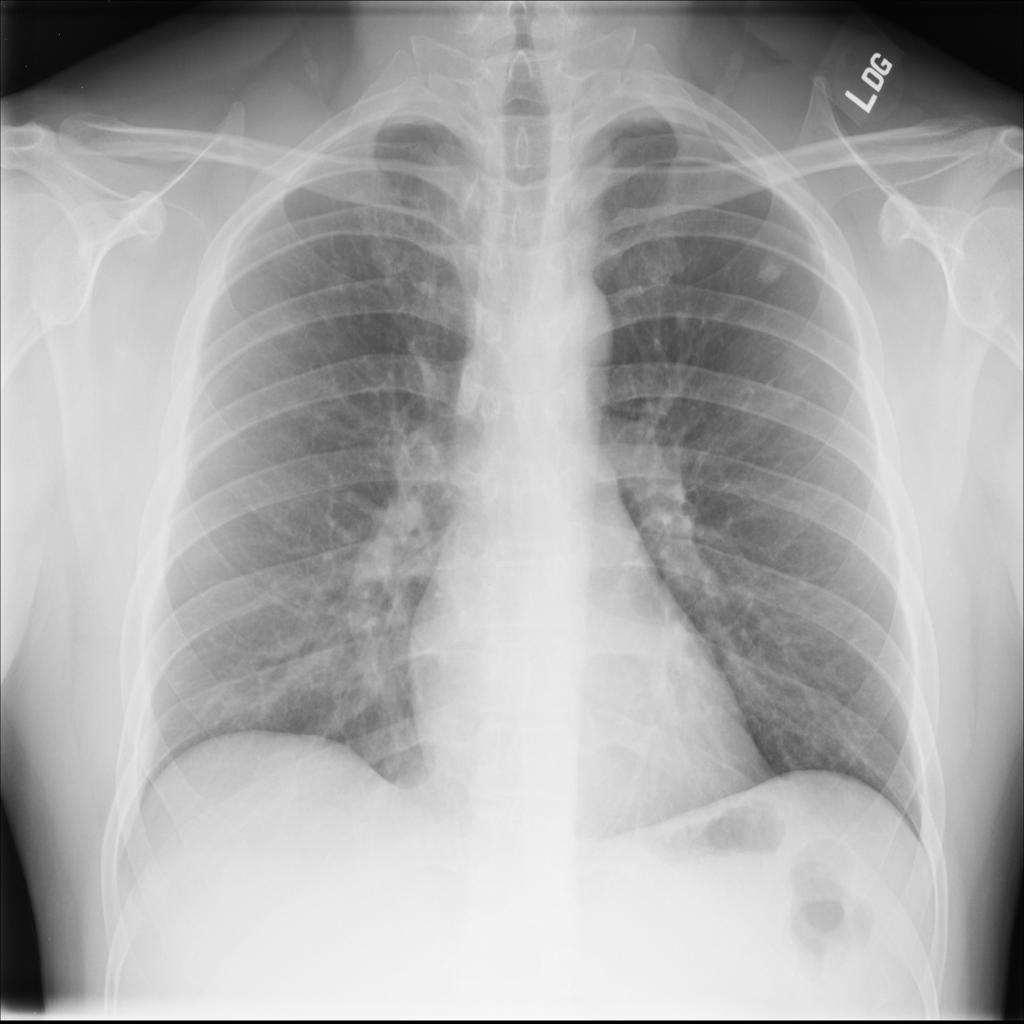nodule: (744, 242, 797, 292)
